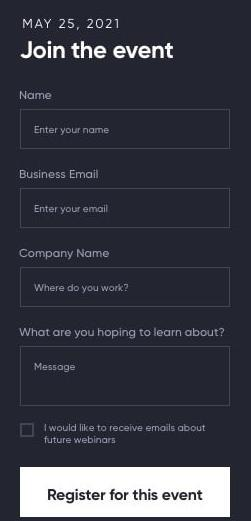button: (22, 470, 230, 518)
checkbox: (20, 424, 35, 438)
input: (22, 343, 231, 409), (22, 107, 233, 152), (22, 191, 234, 229), (22, 268, 233, 304)
label: (44, 418, 218, 452), (17, 321, 234, 345), (18, 40, 180, 65), (10, 244, 114, 262), (15, 164, 107, 183), (18, 87, 56, 104)
